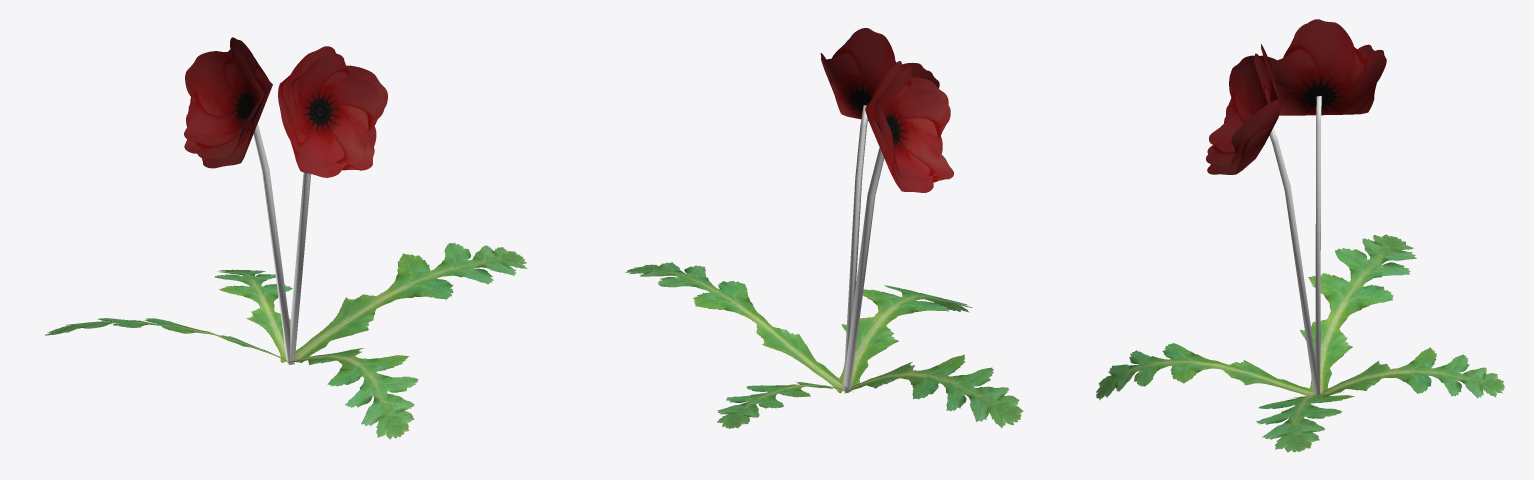
File: PoppyFlower.fbx
3 views of the same model, side by side, from view 1: azimuth 30°, elevation 25°; view 2: azimuth 150°, elevation 25°; view 3: azimuth 270°, elevation 25° (orthographic). The views are drawn at different scales.
Visible parts, largest first — view 1: PoppyFlower; view 2: PoppyFlower; view 3: PoppyFlower.
Boxes of the visible parts, bbox=[...] form: PoppyFlower: bbox=[45, 37, 527, 439]; PoppyFlower: bbox=[625, 28, 1023, 428]; PoppyFlower: bbox=[1096, 19, 1504, 452].
Bounding box in the file's own units: 56.11 × 40.61 × 43.92.
